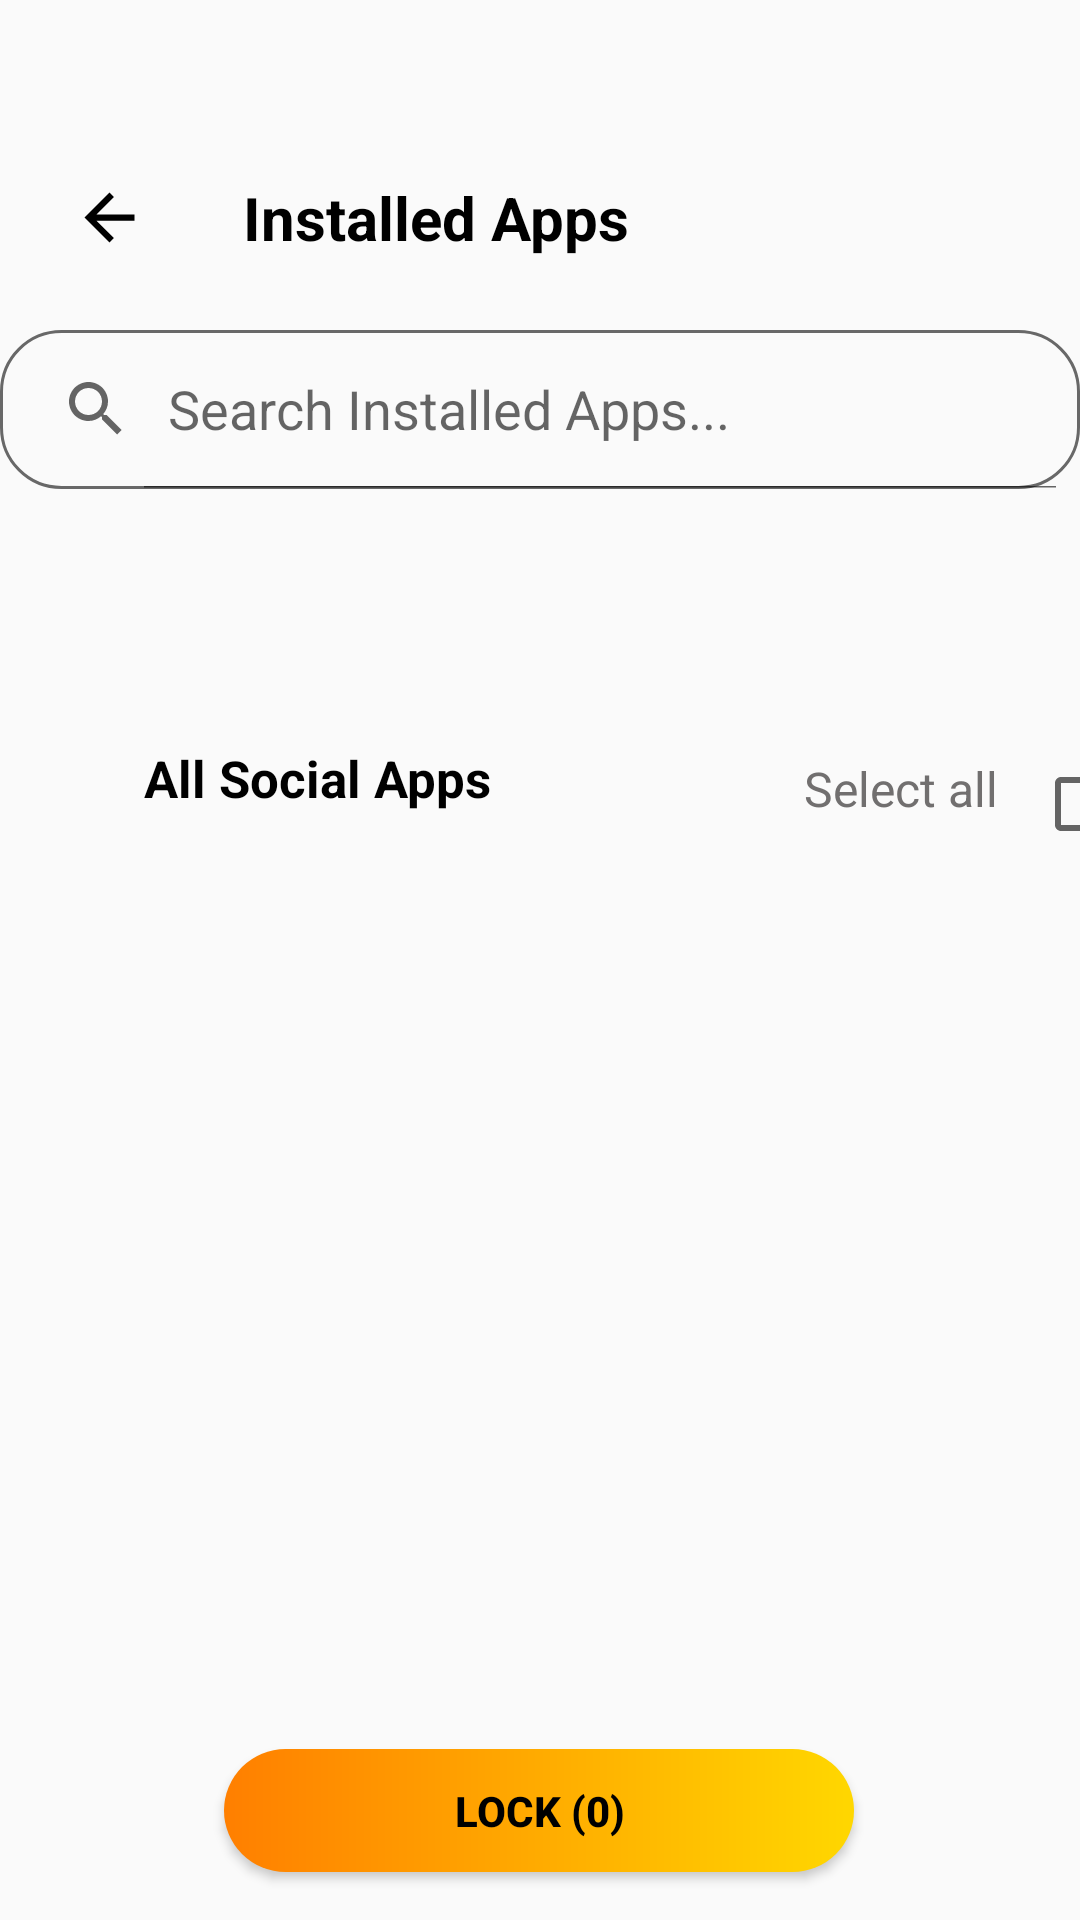

Where to tap for icons on this 1080px×1920px app screen, as point (x, y):
arrow back: point (109, 217)
